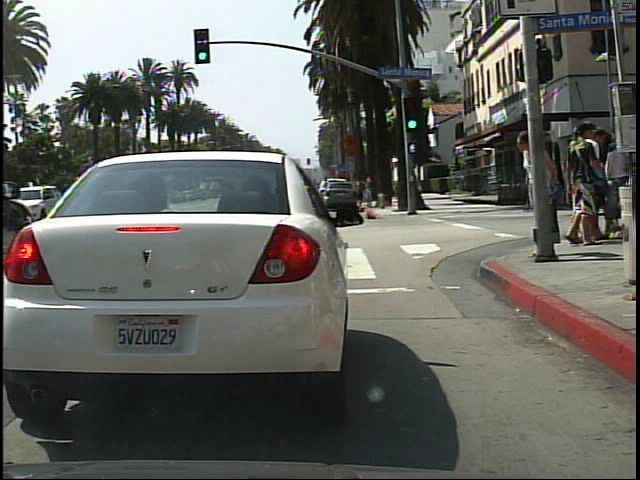person: (514, 124, 557, 265)
